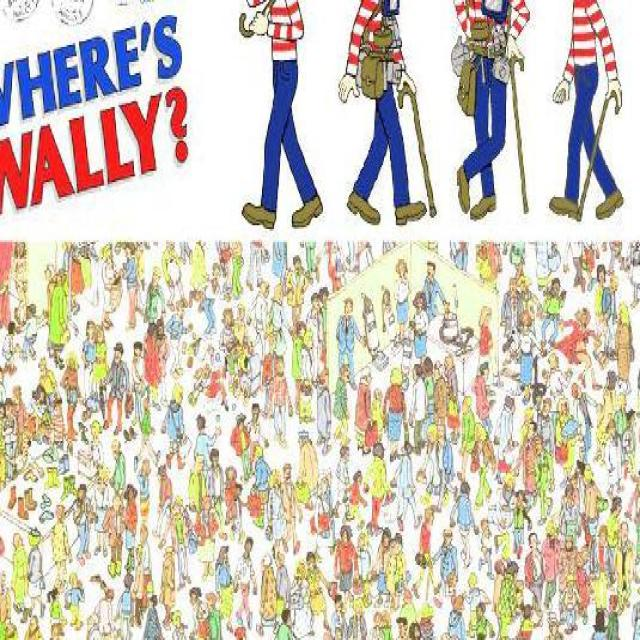waldo: (48, 398, 62, 415)
